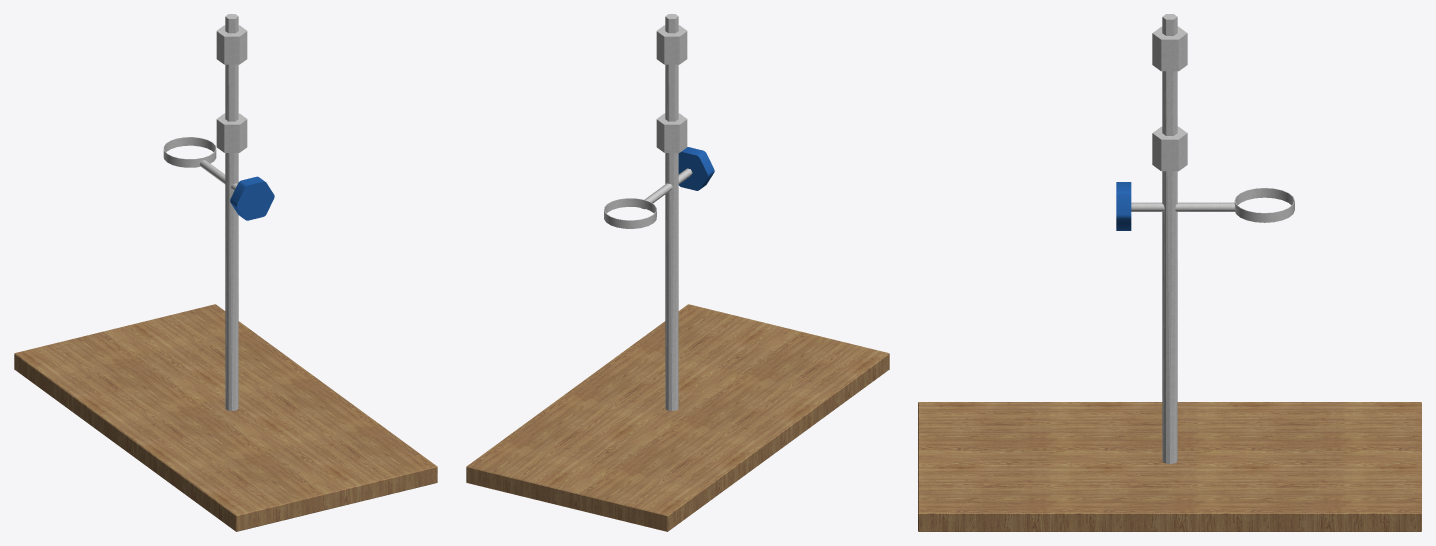
Rendered from SM_过滤装置.fbx.
The picture shows the model from 3 angles, left to right: view 1: azimuth 30°, elevation 25°; view 2: azimuth 150°, elevation 25°; view 3: azimuth 270°, elevation 25°; orthographic projection. The views are drawn at different scales.
Visible parts, largest first — view 1: SM_过滤装置; view 2: SM_过滤装置; view 3: SM_过滤装置.
Part boxes in pixels (x1,y1,x2,y2): SM_过滤装置: (14, 14, 437, 531); SM_过滤装置: (466, 14, 889, 531); SM_过滤装置: (918, 14, 1421, 531).
Bounding box in the file's own units: 81.83 × 158 × 156.
